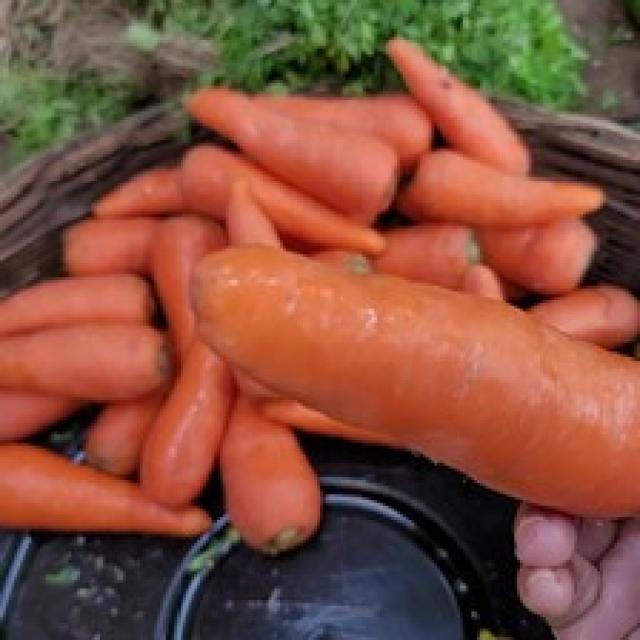Fresh_Carrot: (183, 229, 640, 531), (183, 85, 389, 206), (7, 438, 209, 540), (412, 146, 599, 224), (0, 325, 170, 400), (66, 223, 186, 266)
